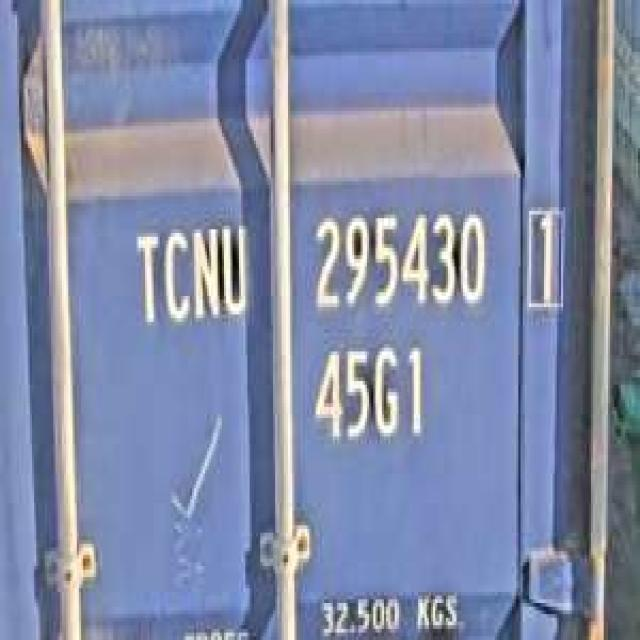dv: (518, 196, 568, 322)
owner: (128, 215, 250, 333)
serial: (307, 200, 491, 322)
size: (309, 337, 431, 451)
